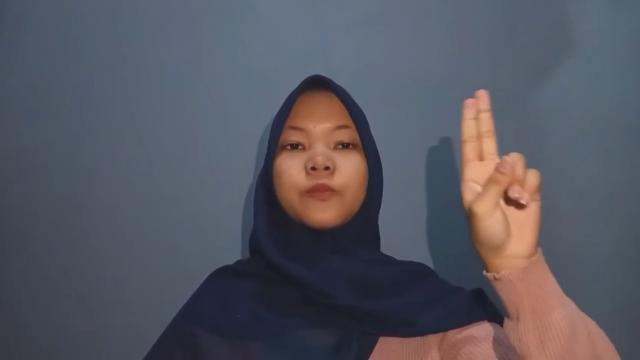U: (456, 84, 546, 258)
